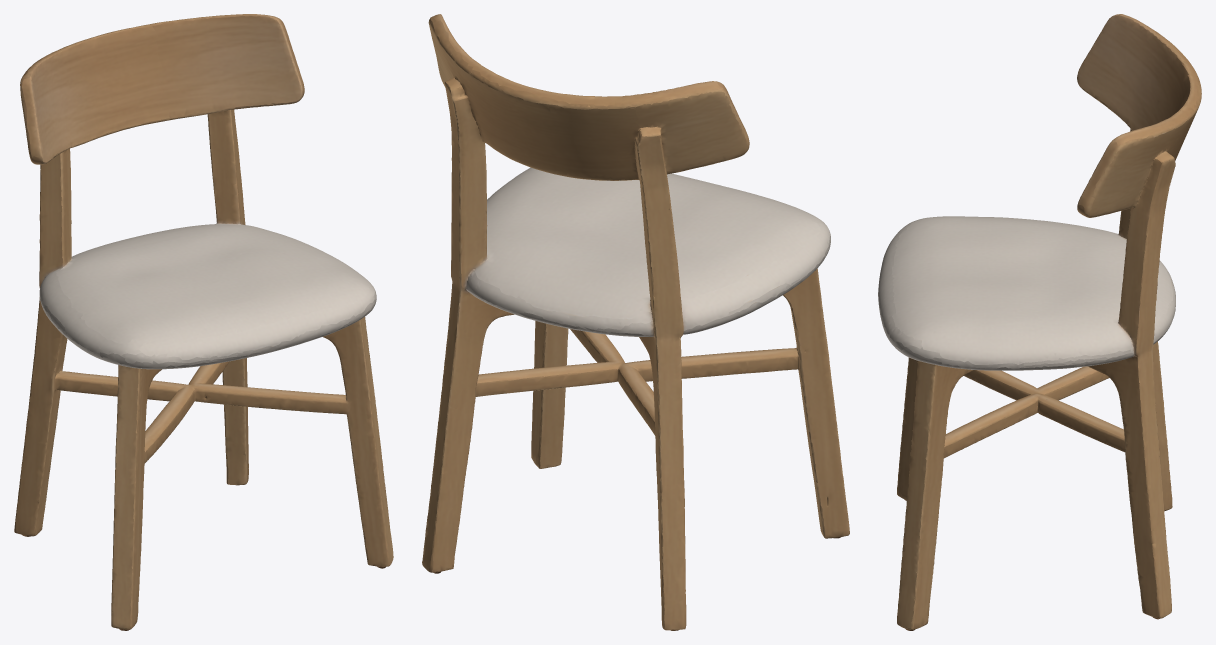
The model's file is item_2c0ec5c6.glb.
3 renders of one model, left to right at view 1: azimuth 30°, elevation 25°; view 2: azimuth 150°, elevation 25°; view 3: azimuth 270°, elevation 25°, orthographic. The views are drawn at different scales.
Parts seen in each view (by area): view 1: world; view 2: world; view 3: world.
Part boxes in pixels (box(x1,y1,x2,y2)): world: box(14, 14, 393, 630); world: box(422, 14, 849, 630); world: box(878, 14, 1201, 630).
Size of the model in its own units: 0.5065 by 0.82 by 0.4909.
1 material, 1 textured.
